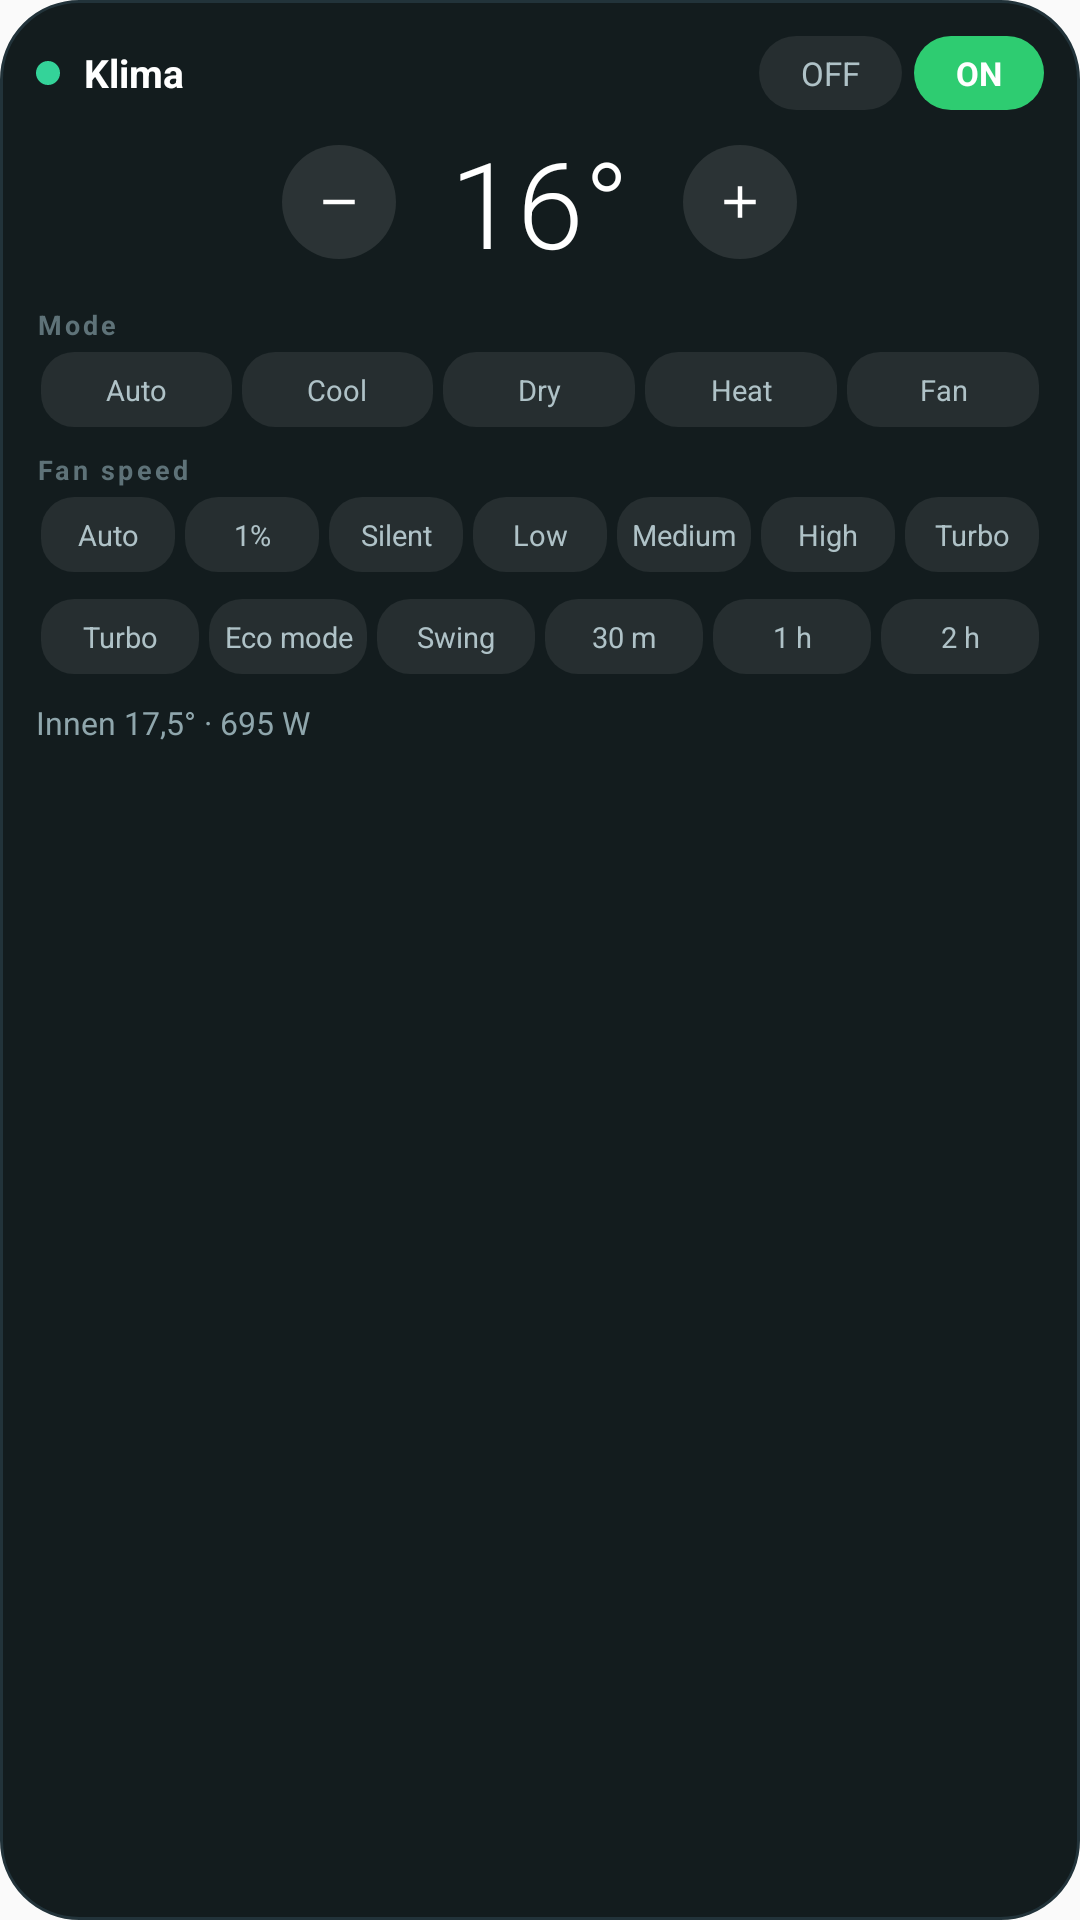

Named icons in this screenshot (1080 x 1920) and their centers, (x,y):
minus: (339,202)
plus: (740,202)
widget dot on: (48,73)
